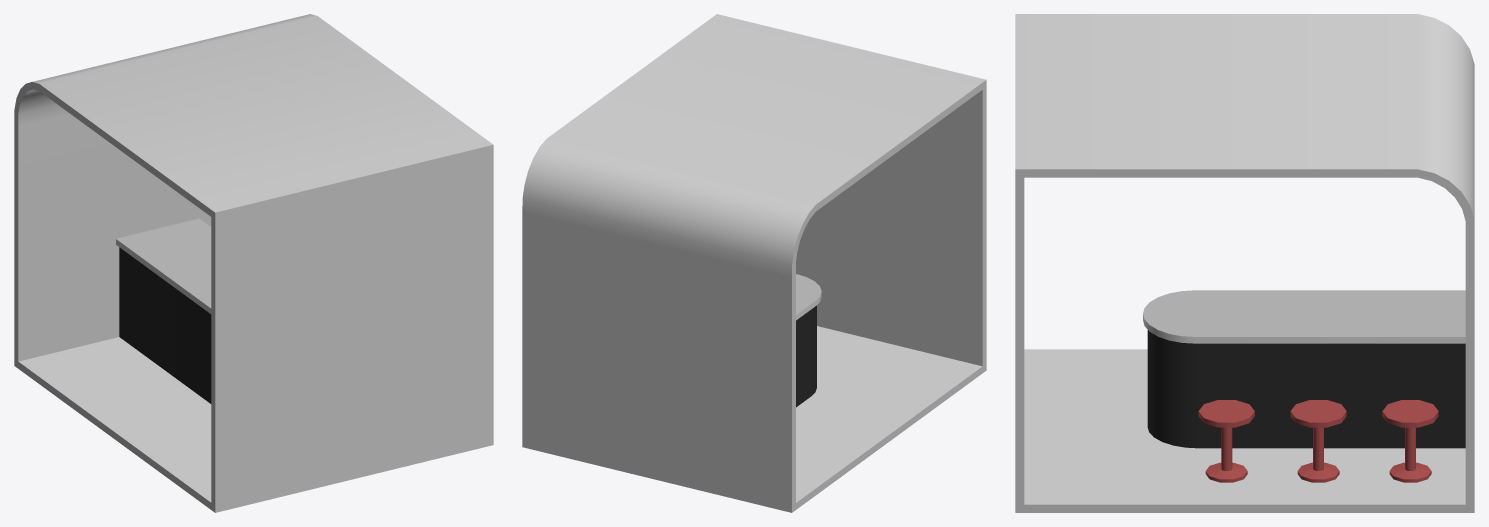
The model's file is ExhibitionStand.gltf.
3 views of the same model, side by side, from view 1: azimuth 30°, elevation 25°; view 2: azimuth 150°, elevation 25°; view 3: azimuth 270°, elevation 25° (orthographic). The views are drawn at different scales.
Parts seen in each view (by area): view 1: Walls, Table-Walls, Table-Top, Table-Border; view 2: Walls, Table-Walls, Table-Top; view 3: Walls, Table-Walls, Table-Top, Chairs, Table-Border.
Boxes of the visible parts, box(x1,y1,x2,y2) form: Walls: box(14, 14, 493, 512); Table-Walls: box(119, 247, 211, 403); Table-Top: box(116, 218, 211, 308); Table-Border: box(116, 239, 211, 313); Walls: box(522, 14, 986, 512); Table-Walls: box(796, 305, 816, 407); Table-Top: box(796, 274, 821, 314); Walls: box(1015, 14, 1474, 512); Table-Walls: box(1147, 330, 1465, 448); Table-Top: box(1143, 290, 1465, 336); Chairs: box(1198, 400, 1438, 482); Table-Border: box(1143, 314, 1465, 343).
Bounding box in the file's own units: 8 × 8.25 × 10.
